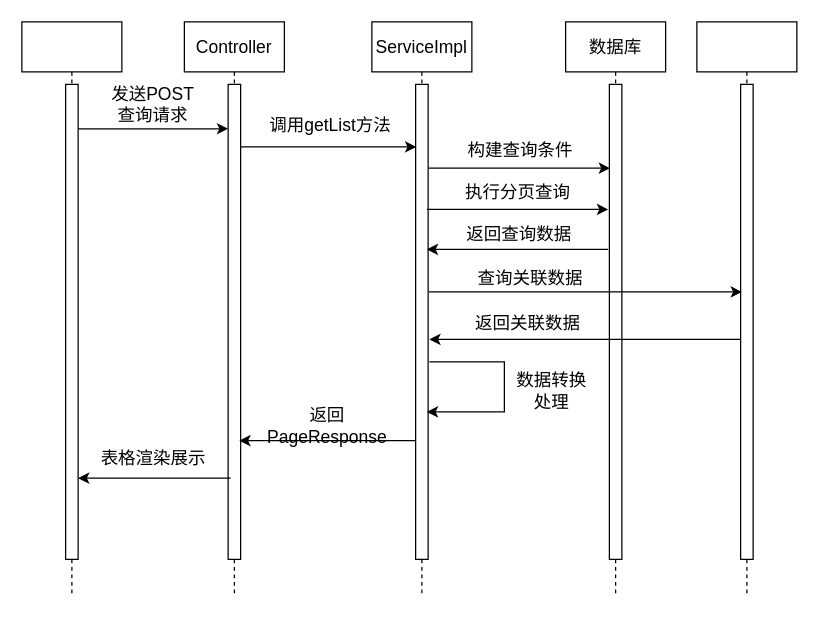
The diagram is 819 pixels wide and 619 high, and some of its shapes have lost their labels. The box of each missing label's shape, as (x1, y1, x2, y2) in pixels:
前端组件: (21, 21, 122, 597)
数据库中 关联表: (696, 21, 797, 597)
